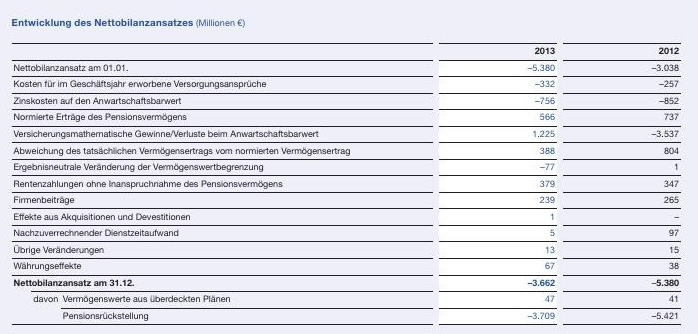table: (0, 0, 698, 334)
